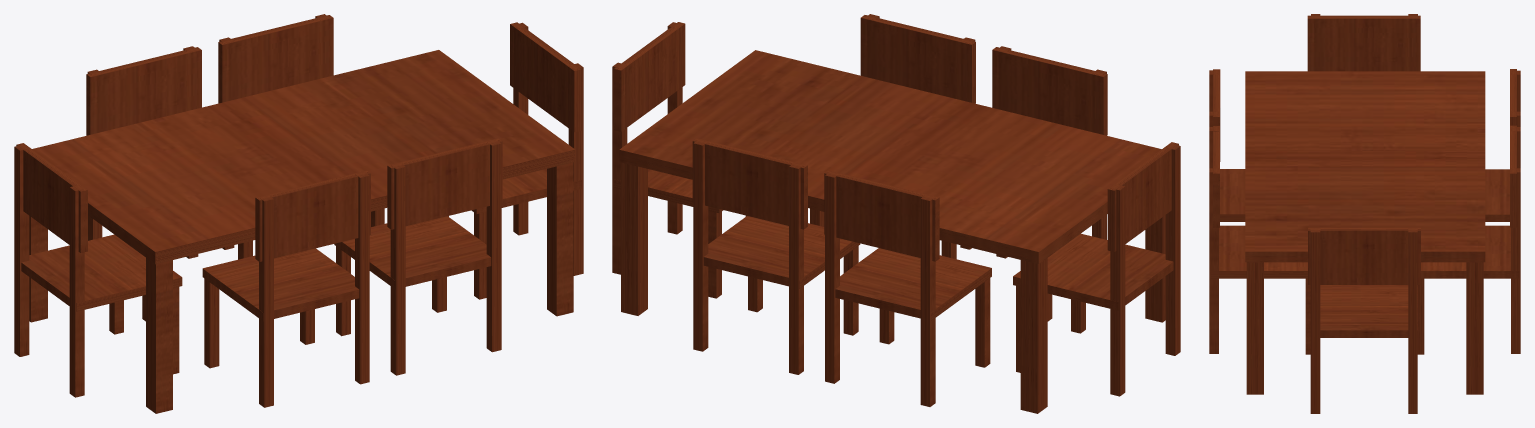
The model's file is table.gltf.
3 renders of one model, left to right at view 1: azimuth 30°, elevation 25°; view 2: azimuth 150°, elevation 25°; view 3: azimuth 270°, elevation 25°, orthographic. The views are drawn at different scales.
Parts seen in each view (by area): view 1: Cube, Cube.011, Cube.022, Cube.028, Cube.034, Cube.023, Cube.005, Cube.029, Cube.035, Cube.001, Cube.002, Cube.010 (+14 smaller); view 2: Cube, Cube.023, Cube.034, Cube.016, Cube.011, Cube.022, Cube.005, Cube.017, Cube.035, Cube.004, Cube.003, Cube.010 (+14 smaller); view 3: Cube, Cube.010, Cube.035, Cube.040, Cube.002, Cube.003, Cube.029, Cube.017, Cube.037, Cube.038, Cube.020, Cube.031 (+8 smaller).
Part boxes in pixels (x1,y1,x2,y2): Cube: (32, 50, 575, 264); Cube.011: (86, 47, 201, 135); Cube.022: (218, 15, 333, 103); Cube.028: (202, 248, 359, 321); Cube.034: (387, 138, 502, 229); Cube.023: (255, 170, 370, 261); Cube.005: (21, 234, 182, 311); Cube.029: (334, 216, 491, 288); Cube.035: (510, 22, 581, 132); Cube.001: (146, 258, 172, 413); Cube.002: (547, 162, 573, 316); Cube.010: (16, 143, 87, 252); Cube: (619, 50, 1161, 264); Cube.023: (992, 47, 1107, 135); Cube.034: (860, 15, 975, 103); Cube.016: (835, 248, 991, 320); Cube.011: (824, 170, 939, 261); Cube.022: (692, 138, 807, 229); Cube.005: (1013, 233, 1173, 310); Cube.017: (703, 216, 860, 288); Cube.035: (614, 22, 685, 131); Cube.004: (1020, 258, 1047, 413); Cube.003: (621, 162, 647, 315); Cube.010: (1107, 142, 1178, 251); Cube: (1245, 71, 1485, 262); Cube.010: (1307, 15, 1420, 71); Cube.035: (1308, 227, 1420, 284); Cube.040: (1320, 285, 1417, 337); Cube.002: (1246, 262, 1263, 394); Cube.003: (1466, 262, 1483, 394); Cube.029: (1210, 225, 1307, 278); Cube.017: (1421, 225, 1519, 278); Cube.037: (1310, 228, 1320, 413); Cube.038: (1408, 228, 1417, 413); Cube.020: (1511, 168, 1520, 353); Cube.031: (1209, 168, 1218, 353).
Size of the model in its own units: 4.15 by 1.62 by 2.5.
1 material, 1 textured.
